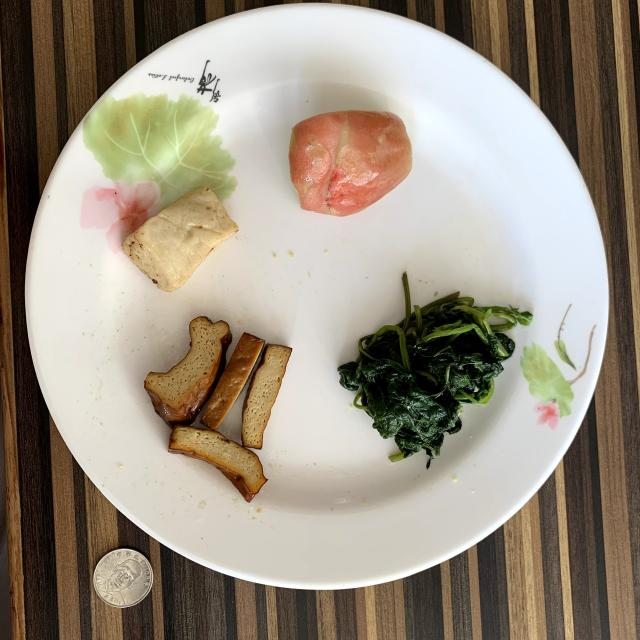coin: (94, 549, 154, 608)
creamy tofu -without sauce-: (122, 188, 239, 292)
firm tofu: (145, 316, 291, 501)
sweet potato leaves: (338, 272, 532, 468)
